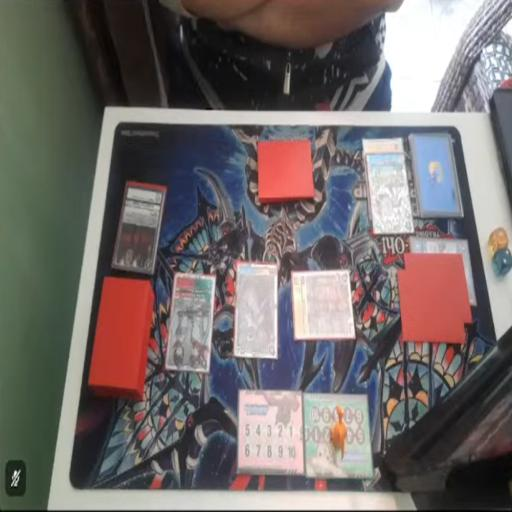card: (164, 274, 216, 370), (410, 235, 475, 308), (292, 270, 356, 339), (117, 182, 164, 272), (231, 264, 276, 356), (367, 152, 410, 234), (361, 140, 408, 154)
